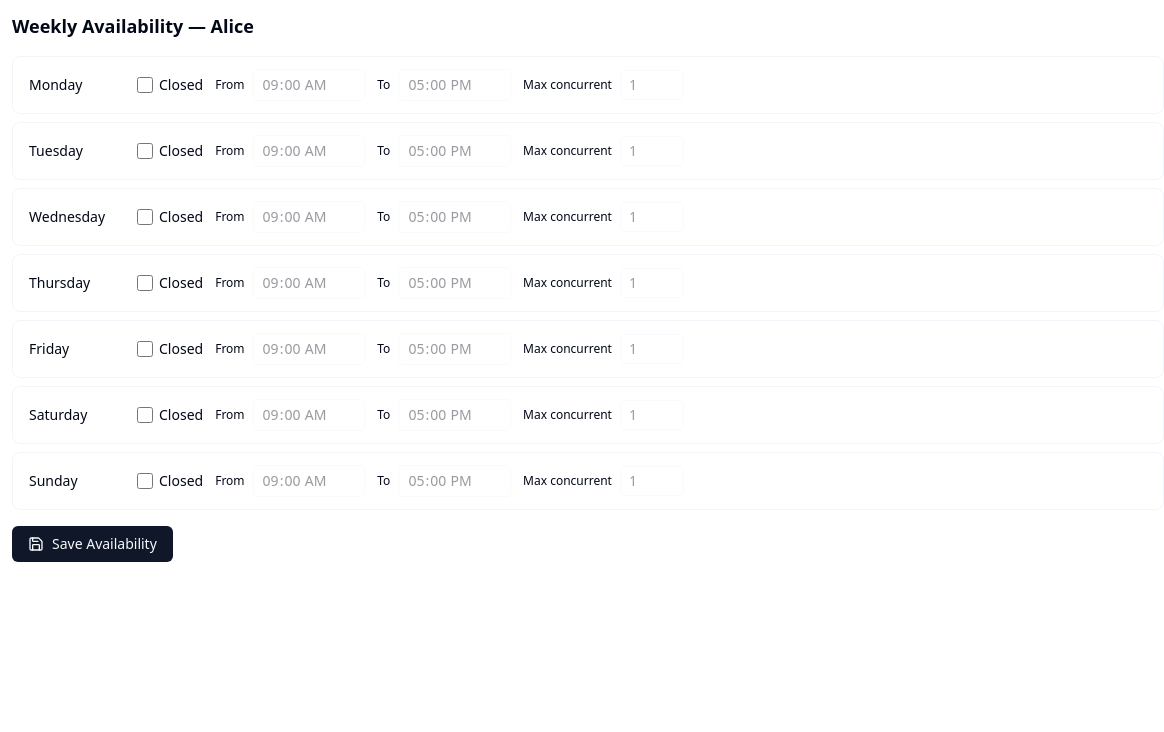
Test: AvailabilityEditor › shows an error message when save fails
What coordinates should you click on to do the following:
click the button "Save Availability"
I would click on:
 (92, 544)
Its box is [12,526,173,562].
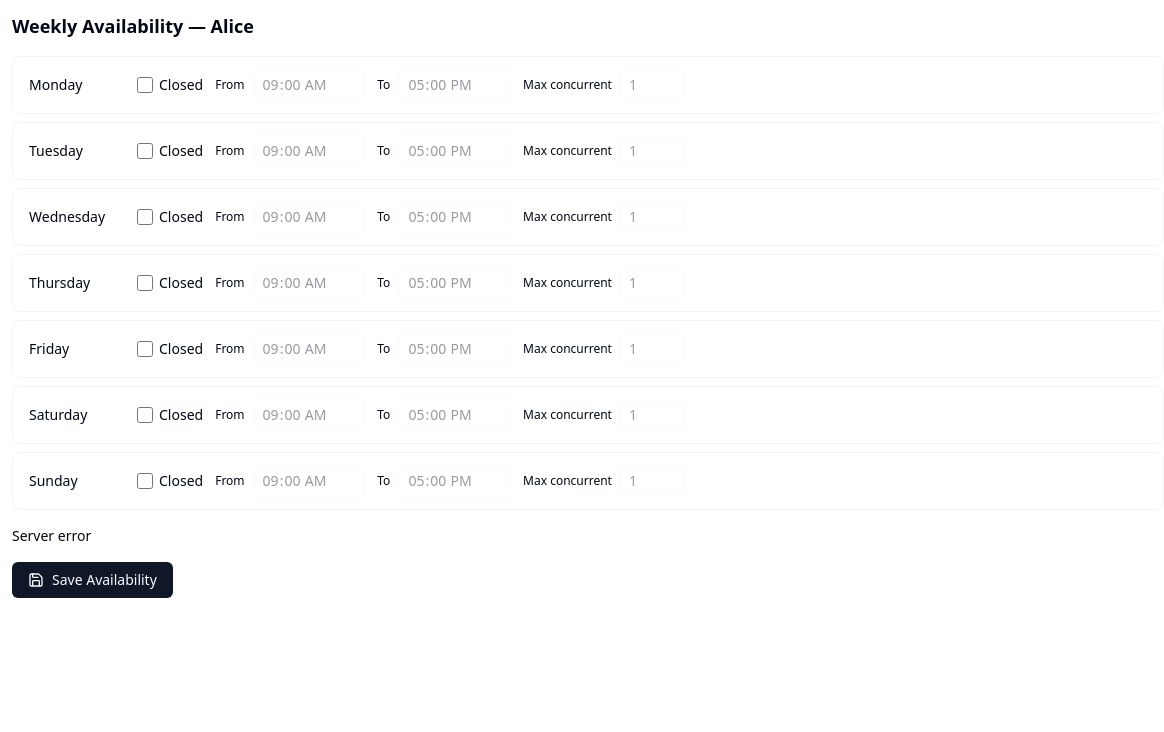
Expected: the message "Server error" is shown, [12,526,91,545]
